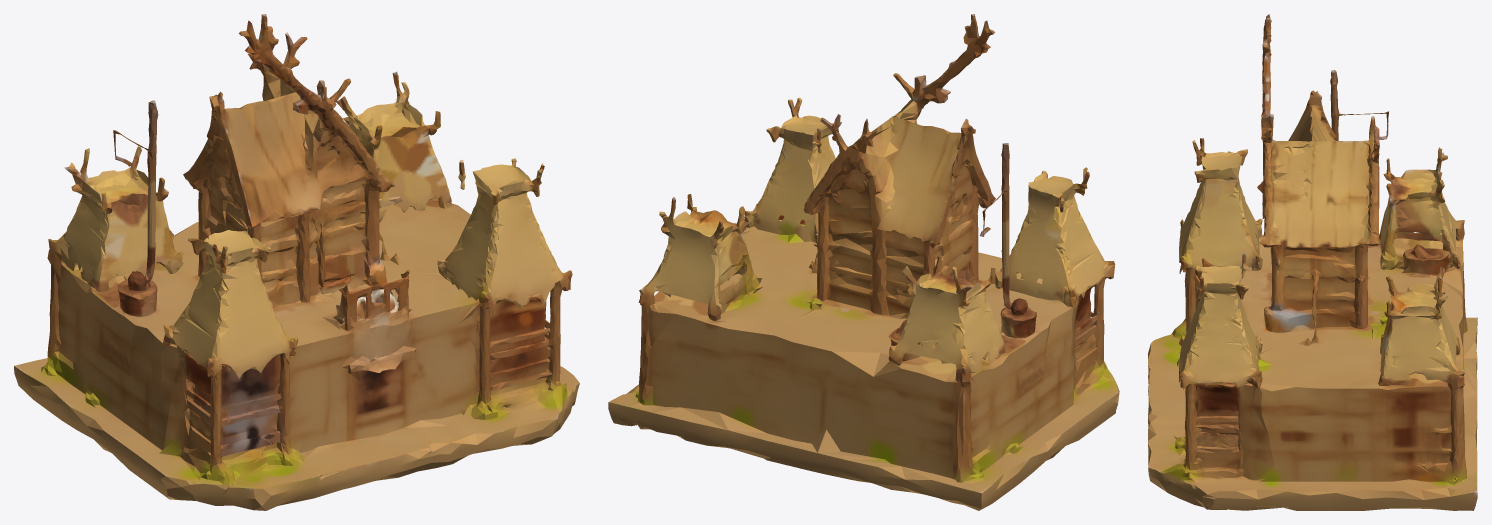
The model's file is orc_barracks.glb.
3 views of the same model, side by side, from view 1: azimuth 30°, elevation 25°; view 2: azimuth 150°, elevation 25°; view 3: azimuth 270°, elevation 25° (orthographic). The views are drawn at different scales.
Parts seen in each view (by area): view 1: orc_barracks; view 2: orc_barracks; view 3: orc_barracks.
Boxes of the visible parts, bbox=[...] form: orc_barracks: bbox=[14, 14, 579, 510]; orc_barracks: bbox=[608, 14, 1119, 510]; orc_barracks: bbox=[1148, 14, 1477, 510].
Size of the model in its own units: 1.89 by 1.9 by 1.51.
Materials: 1 (1 with a texture image).
